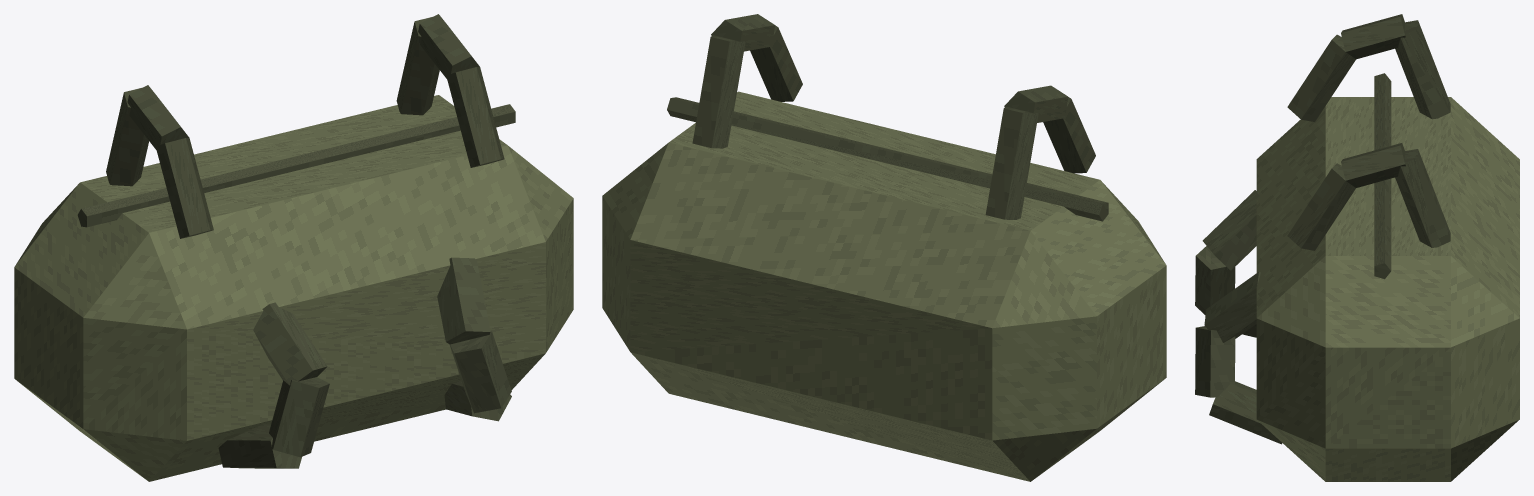
Rendered from seabag.glb.
3 renders of one model, left to right at view 1: azimuth 30°, elevation 25°; view 2: azimuth 150°, elevation 25°; view 3: azimuth 270°, elevation 25°, orthographic. The views are drawn at different scales.
Parts seen in each view (by area): view 1: block_soft-sided bag, block_carry handle 2 (×2), block_wide shoulder straps 2 (×2), block_wide shoulder straps 1 (×2), block_long metal zipper 0, block_carry handle 0 (×2), block_carry handle 1 (×2), block_wide shoulder straps 0 (×2); view 2: block_soft-sided bag, block_carry handle 0 (×2), block_long metal zipper 0, block_carry handle 2 (×2), block_carry handle 1 (×2); view 3: block_soft-sided bag, block_carry handle 0 (×2), block_carry handle 2 (×2), block_wide shoulder straps 2 (×2), block_wide shoulder straps 1 (×2), block_carry handle 1 (×2), block_long metal zipper 0, block_wide shoulder straps 0.
Part boxes in pixels (left/top/right/bottom): block_soft-sided bag: left=14, top=95, right=573, bottom=481; block_carry handle 2 (×2): left=156, top=67, right=504, bottom=238; block_wide shoulder straps 2 (×2): left=253, top=257, right=490, bottom=385; block_wide shoulder straps 1 (×2): left=269, top=331, right=511, bottom=457; block_long metal zipper 0: left=77, top=104, right=515, bottom=227; block_carry handle 0 (×2): left=106, top=17, right=439, bottom=186; block_carry handle 1 (×2): left=127, top=14, right=479, bottom=152; block_wide shoulder straps 0 (×2): left=218, top=380, right=511, bottom=468; block_soft-sided bag: left=602, top=91, right=1166, bottom=481; block_carry handle 0 (×2): left=692, top=35, right=1038, bottom=219; block_long metal zipper 0: left=667, top=97, right=1108, bottom=221; block_carry handle 2 (×2): left=750, top=25, right=1095, bottom=173; block_carry handle 1 (×2): left=711, top=14, right=1068, bottom=122; block_soft-sided bag: left=1256, top=97, right=1519, bottom=481; block_carry handle 0 (×2): left=1395, top=20, right=1450, bottom=247; block_carry handle 2 (×2): left=1287, top=34, right=1355, bottom=250; block_wide shoulder straps 2 (×2): left=1202, top=190, right=1260, bottom=342; block_wide shoulder straps 1 (×2): left=1195, top=246, right=1235, bottom=397; block_carry handle 1 (×2): left=1341, top=14, right=1405, bottom=187; block_long metal zipper 0: left=1374, top=73, right=1391, bottom=279; block_wide shoulder straps 0: left=1209, top=381, right=1282, bottom=444.
Bounding box in the file's own units: 0.3608 × 0.251 × 0.2279.
1 material, 1 textured.
